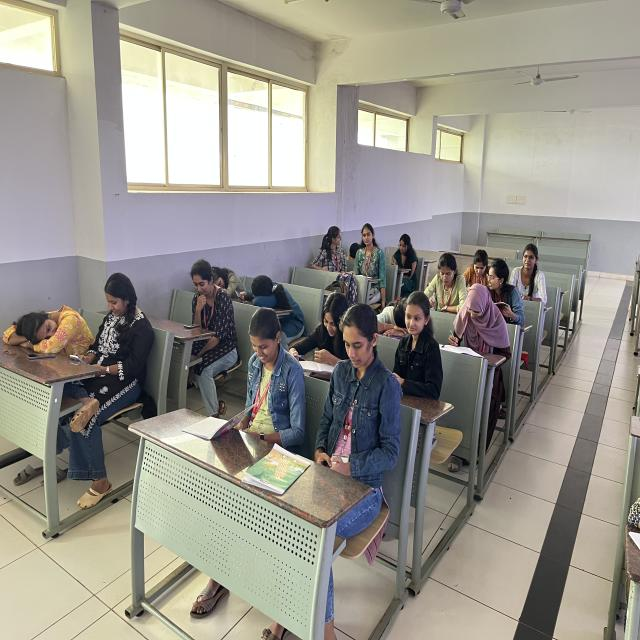Reading: (301, 275, 360, 381)
Sleeping: (2, 286, 94, 352), (244, 236, 302, 327), (364, 264, 414, 329), (199, 237, 240, 300)
Using Phone: (315, 302, 398, 482), (67, 255, 154, 408), (175, 237, 233, 364), (424, 254, 462, 318)
Writing: (441, 283, 505, 380)
